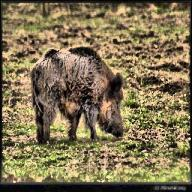boar: (29, 45, 124, 144)
